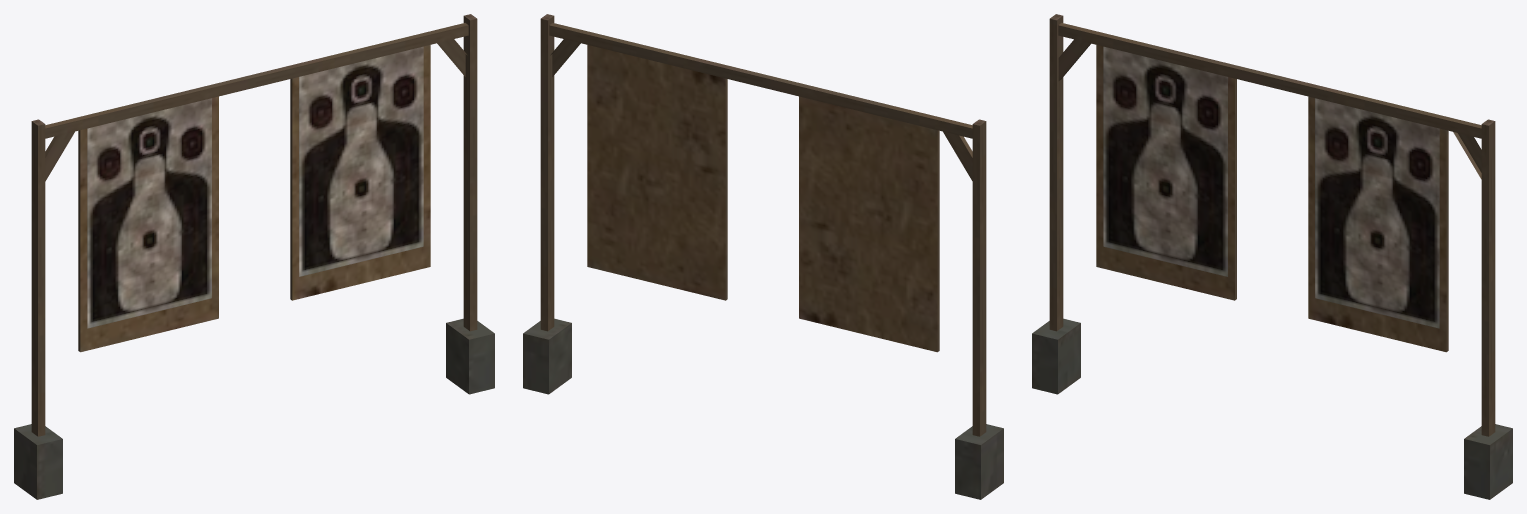
Rendered from range-target.lod1.glb.
3 views of the same model, side by side, from view 1: azimuth 30°, elevation 25°; view 2: azimuth 150°, elevation 25°; view 3: azimuth 330°, elevation 25° (orthographic).
Parts seen in each view (by area): view 1: Object_8; view 2: Object_8; view 3: Object_8.
Boxes of the visible parts, x1,y1,x2,y2 form: Object_8: [14, 14, 494, 499]; Object_8: [523, 14, 1003, 499]; Object_8: [1032, 14, 1512, 499].
Size of the model in its own units: 2.36 by 1.8 by 0.2058.
Materials: 1 (1 with a texture image).
